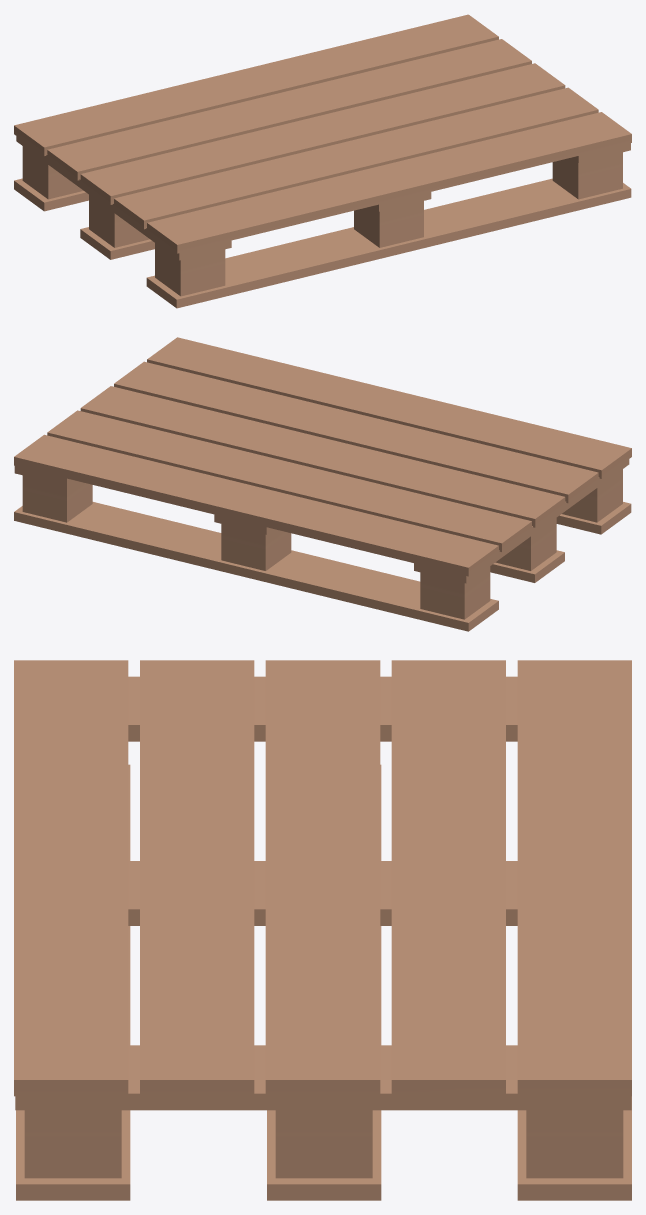
File: SM_Exterior_Palet.fbx
3 views of the same model, one above another, from view 1: azimuth 30°, elevation 25°; view 2: azimuth 150°, elevation 25°; view 3: azimuth 270°, elevation 25° (orthographic). The views are drawn at different scales.
Parts seen in each view (by area): view 1: SM_Exterior_Palet; view 2: SM_Exterior_Palet; view 3: SM_Exterior_Palet.
Part boxes in pixels (<box>): SM_Exterior_Palet: <box>14,14,631,308</box>; SM_Exterior_Palet: <box>14,337,631,631</box>; SM_Exterior_Palet: <box>14,660,631,1200</box>.
Size of the model in its own units: 420 by 56.39 by 261.
